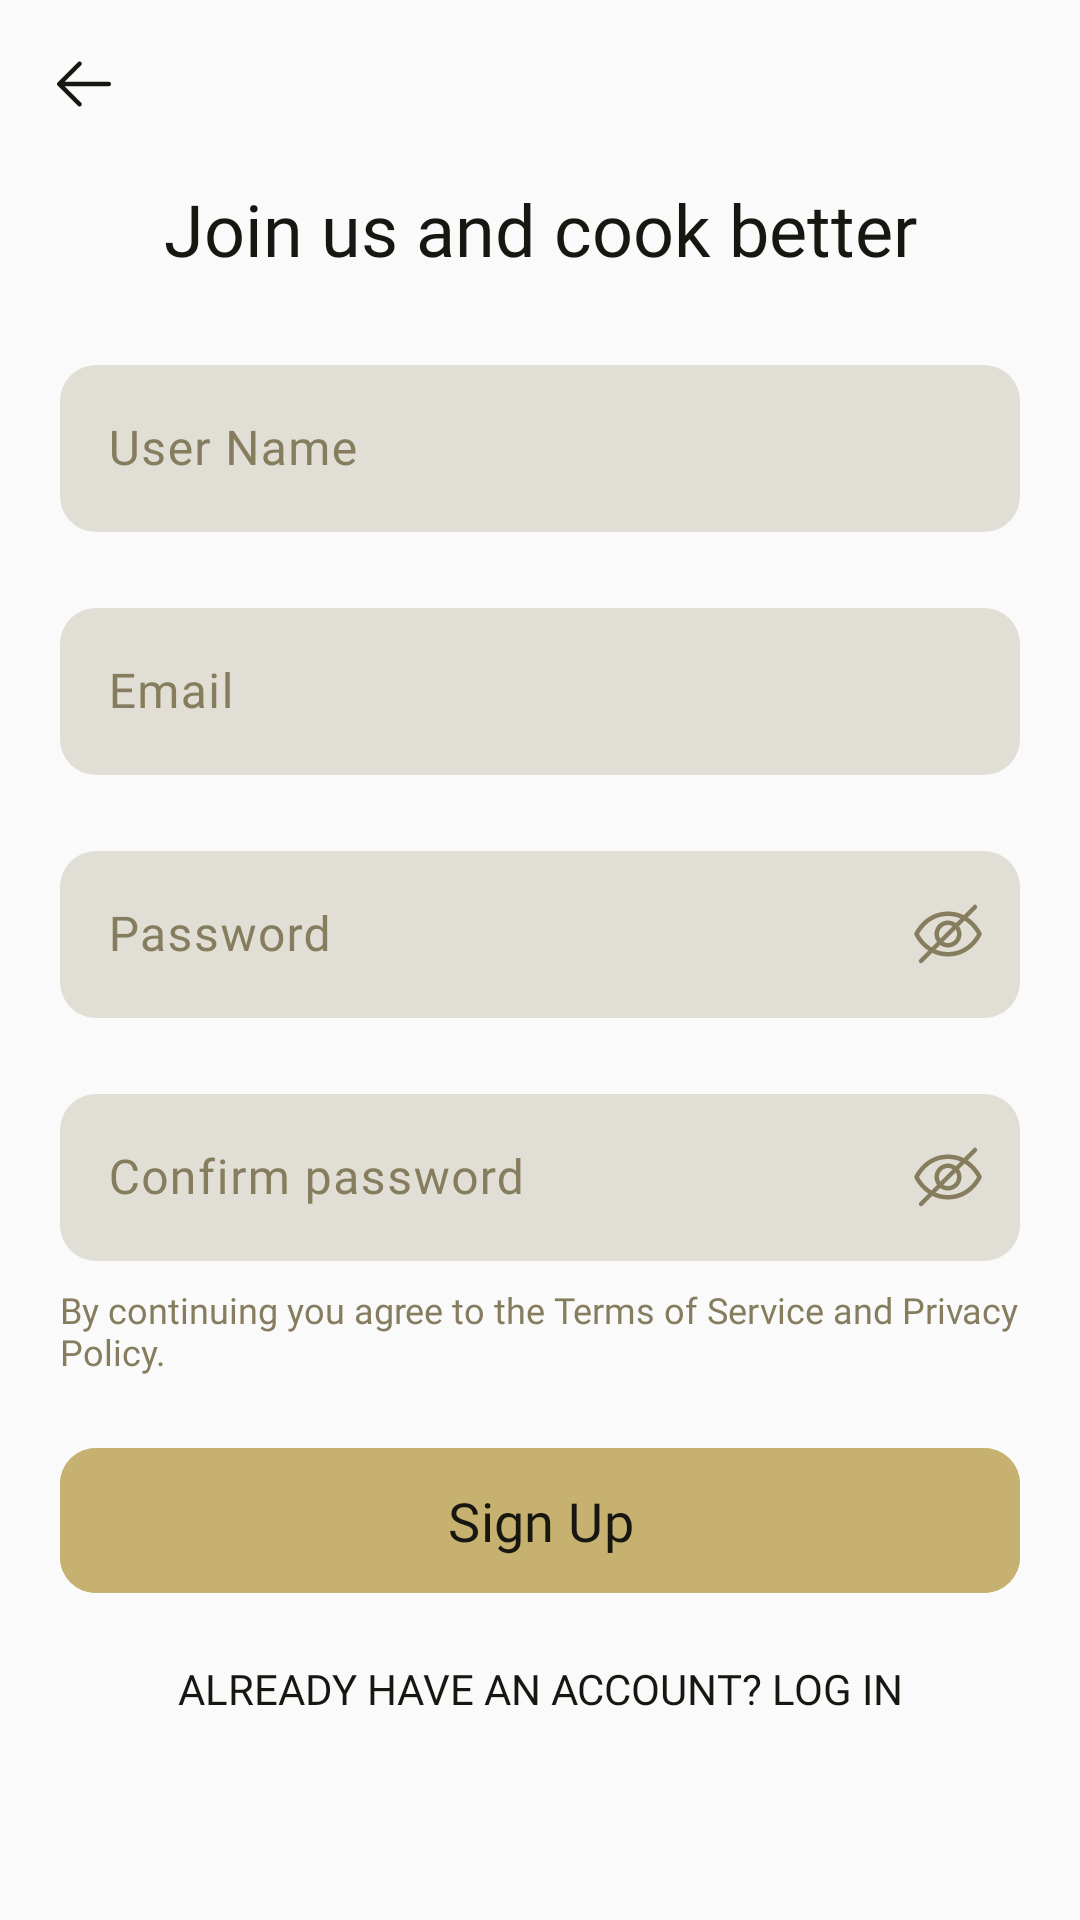

Icon bounding boxes for this 1080x1920 phone screenshot, format (x1, y1, x2, y2):
atras: (57, 61, 111, 107)
